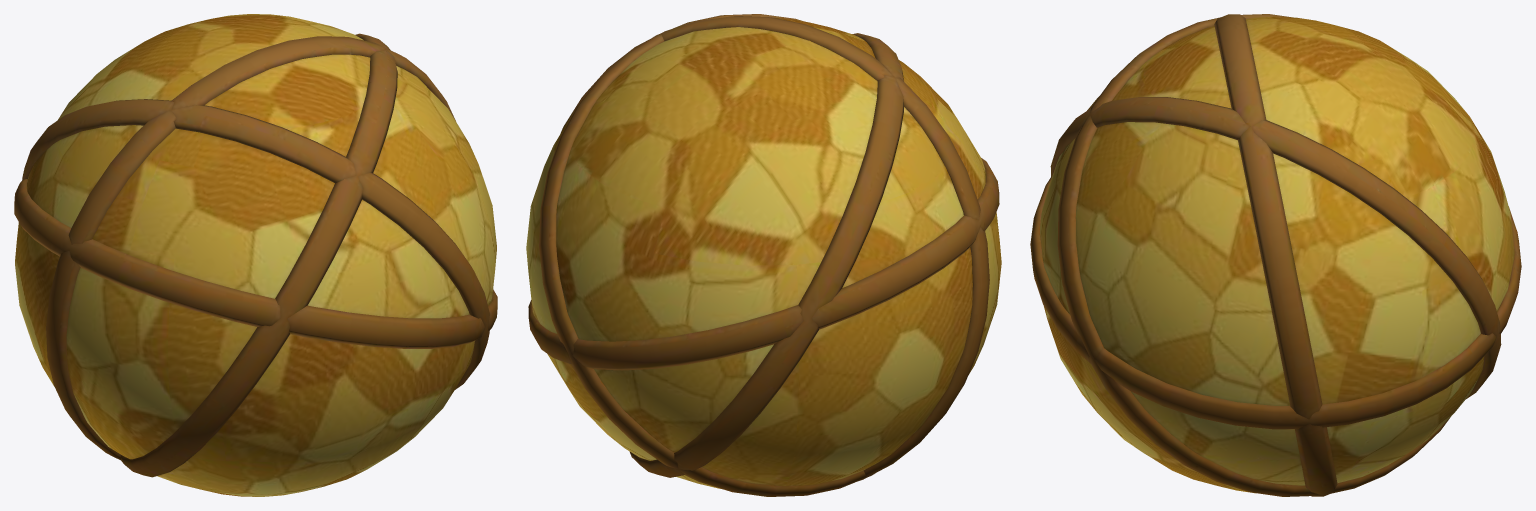
Rendered from hay_bale_1_high.glb.
3 views of the same model, side by side, from view 1: azimuth 30°, elevation 25°; view 2: azimuth 150°, elevation 25°; view 3: azimuth 270°, elevation 25° (orthographic).
Parts seen in each view (by area): view 1: hay_bale_1; view 2: hay_bale_1; view 3: hay_bale_1.
Part boxes in pixels (<box>): hay_bale_1: <box>14,14,497,496</box>; hay_bale_1: <box>526,14,1001,496</box>; hay_bale_1: <box>1030,14,1521,496</box>.
Bounding box in the file's own units: 0.634 × 0.6268 × 0.6371.
Materials: 1 (1 with a texture image).
